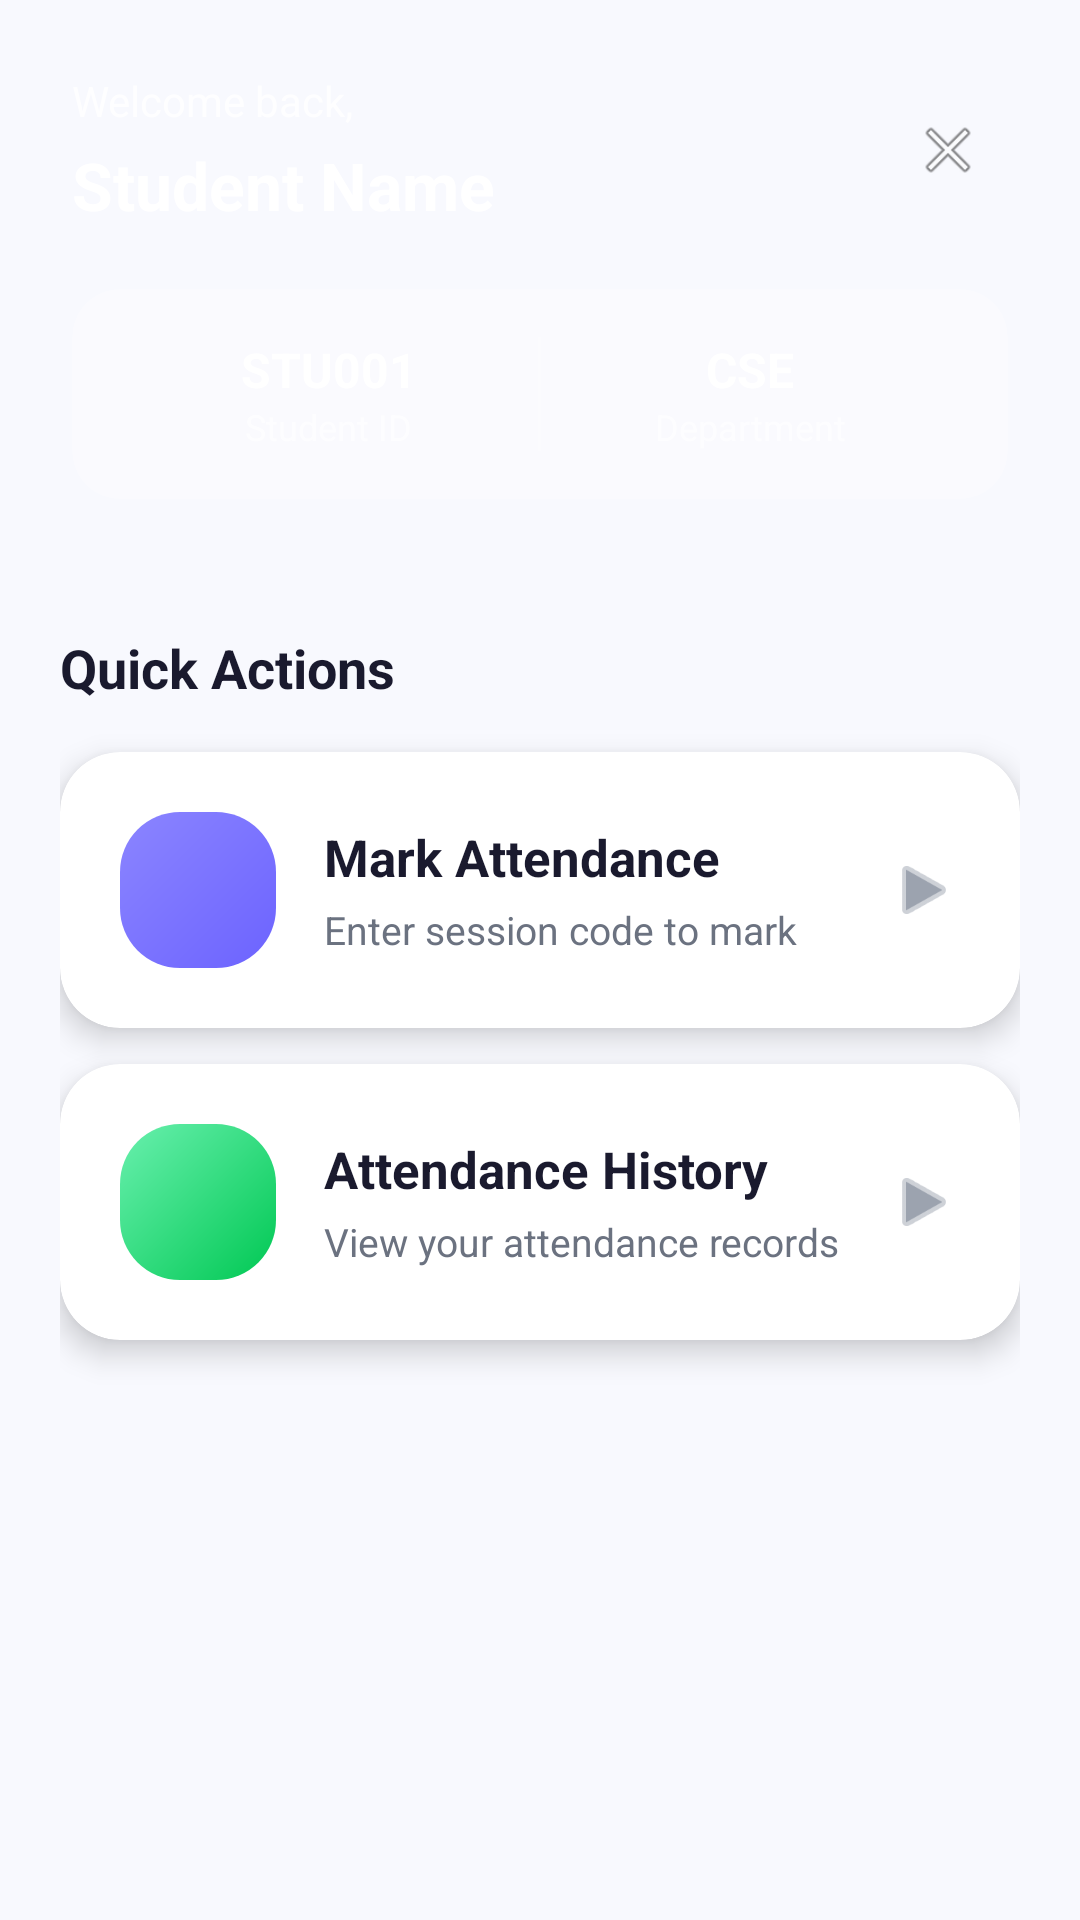

Icon bounding boxes for this 1080px×1920px phone screenshot, format (x1, y1, x2, y2):
Go: (902, 866, 946, 914), (902, 1178, 946, 1226)
